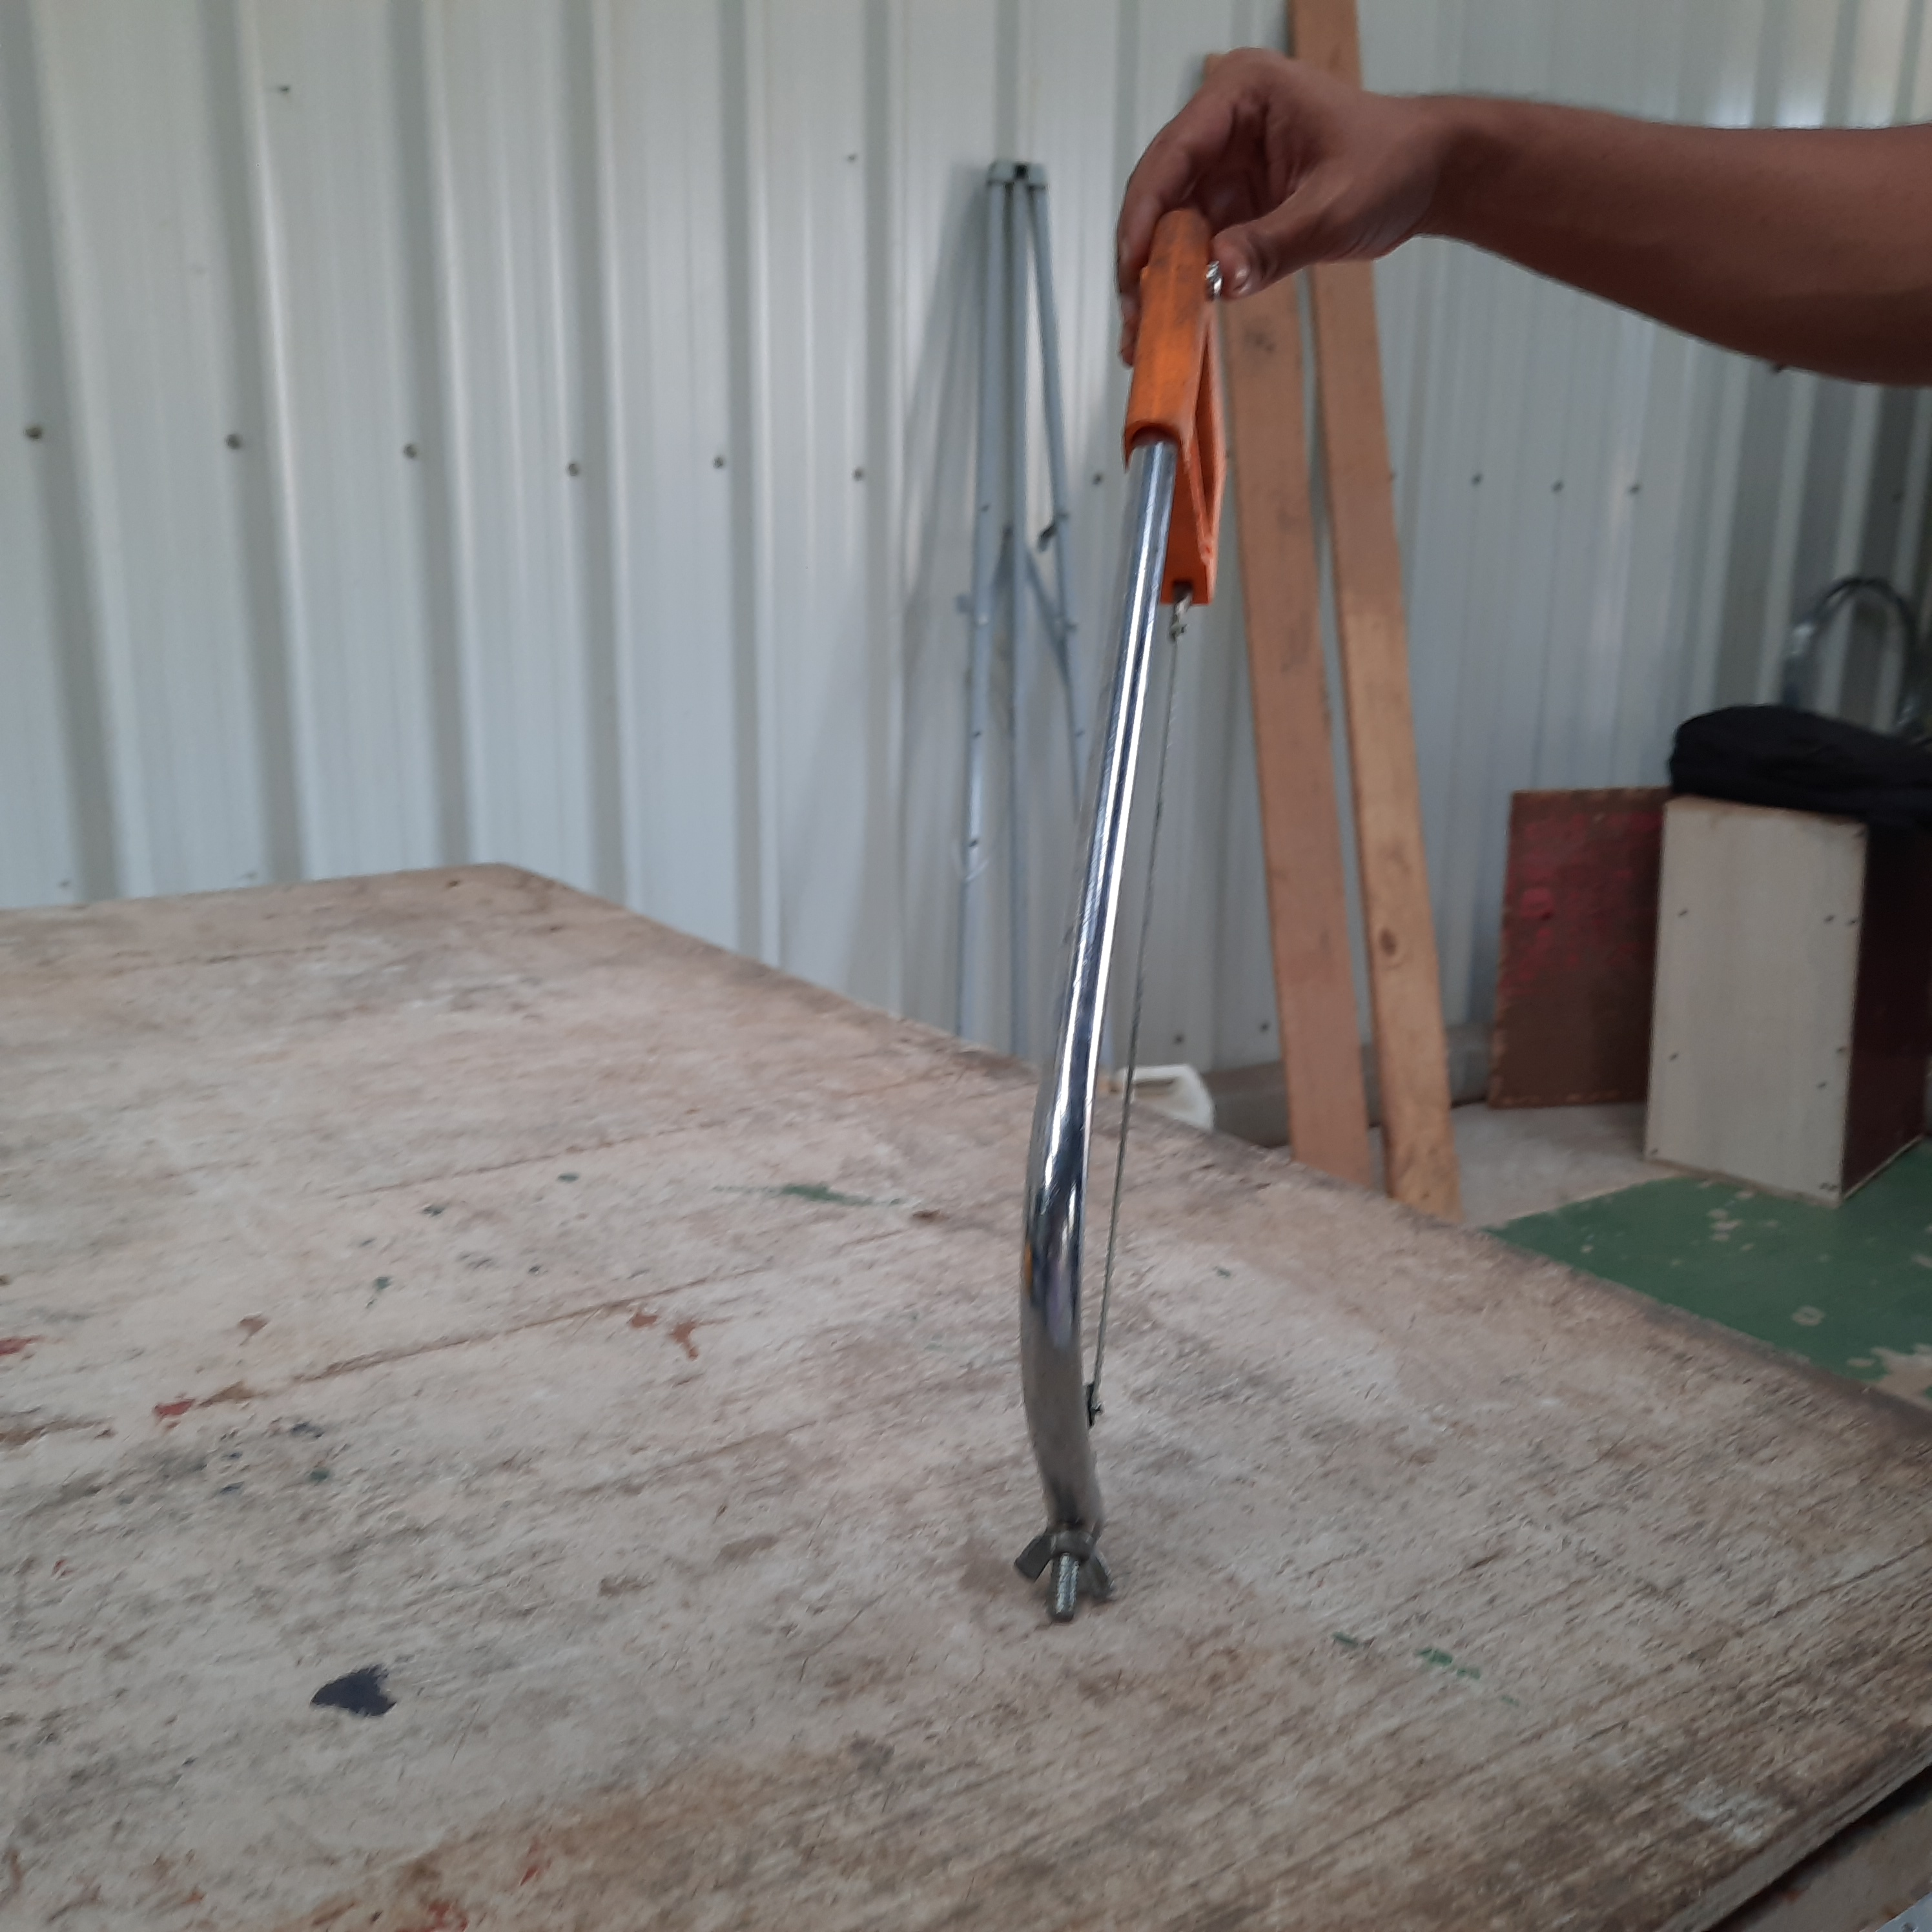Hexaframe: (971, 191, 1269, 1746)
